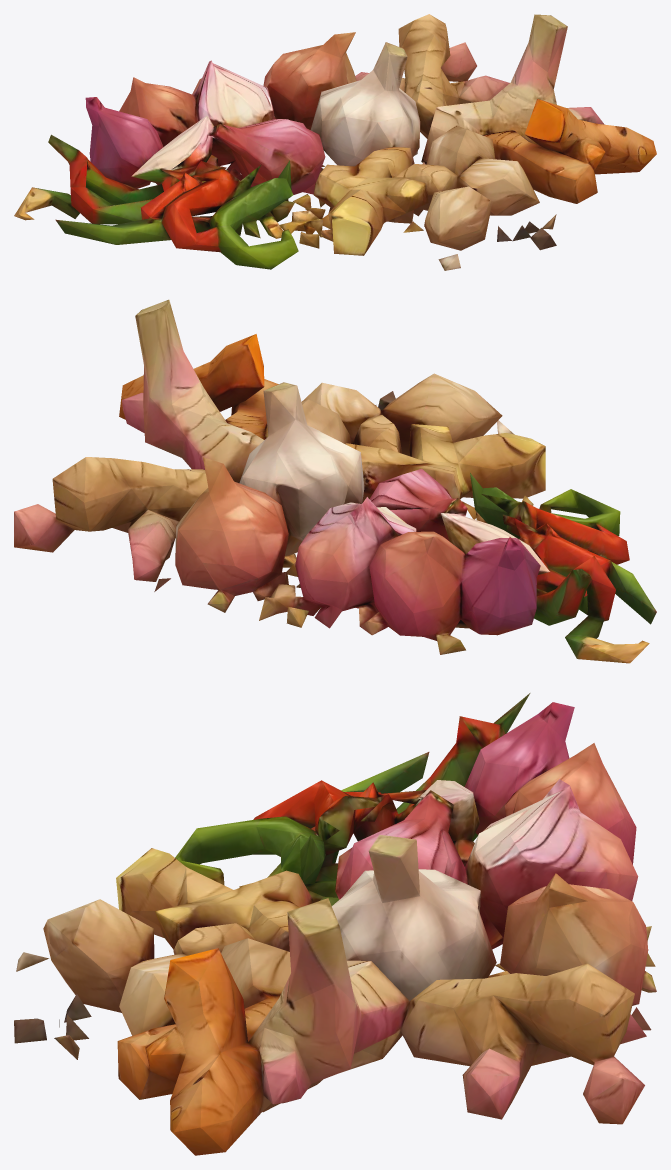
The model's file is rempah.glb.
The picture shows the model from 3 angles, top to bottom: view 1: azimuth 30°, elevation 25°; view 2: azimuth 150°, elevation 25°; view 3: azimuth 270°, elevation 25°; orthographic projection. The views are drawn at different scales.
Parts seen in each view (by area): view 1: model; view 2: model; view 3: model.
Part boxes in pixels (box(x1,y1,x2,y2)): model: box(14, 14, 656, 270); model: box(14, 299, 656, 663); model: box(14, 693, 656, 1155).
Size of the model in its own units: 1.68 by 0.4233 by 1.15.
Materials: 1 (1 with a texture image).
